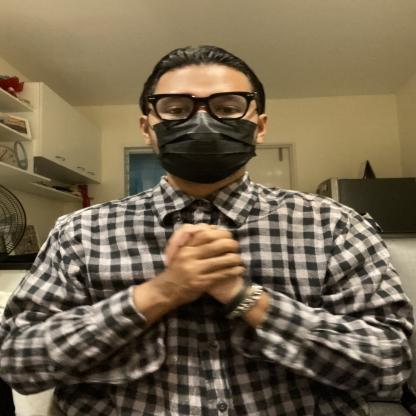Grieve: (87, 192, 364, 338)
